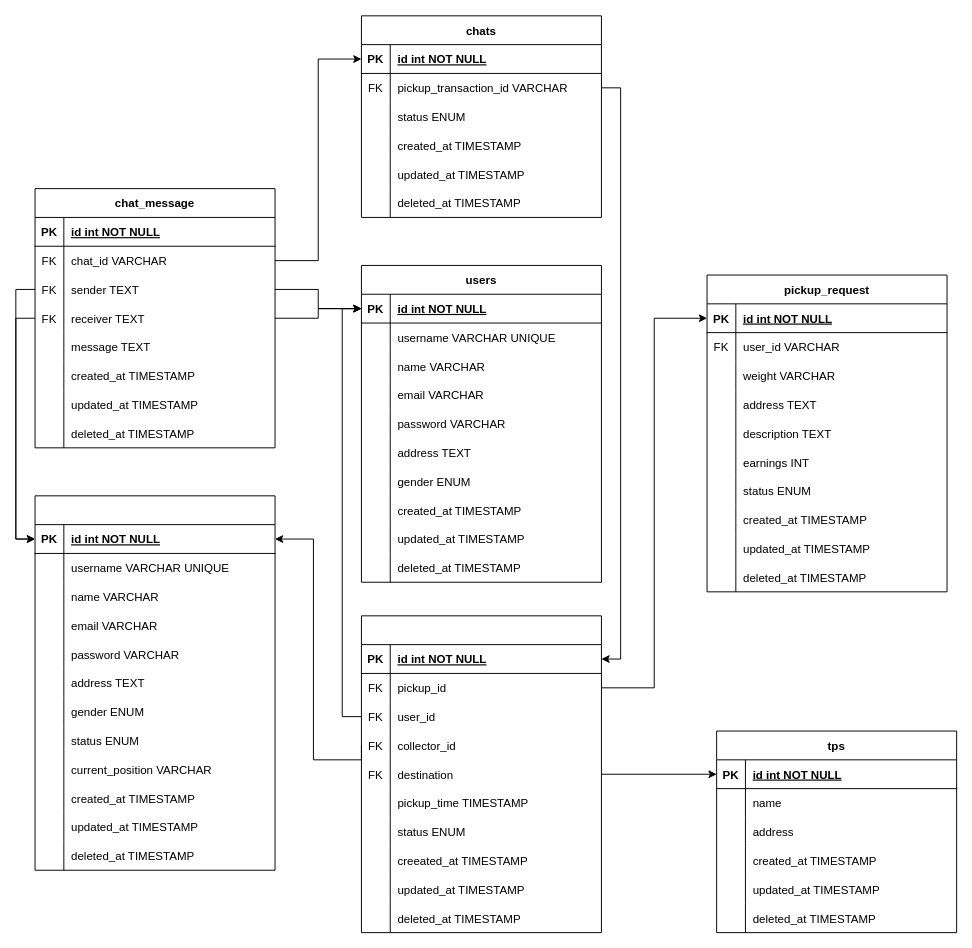
The diagram is 972 pixels wide and 948 high, and some of its shapes have lost their labels. Here are the shapes that lost their labels. From the top down, the box of each, then its label:
(34, 495, 275, 870): garbage_collector
(360, 615, 601, 933): pickup_transaction
